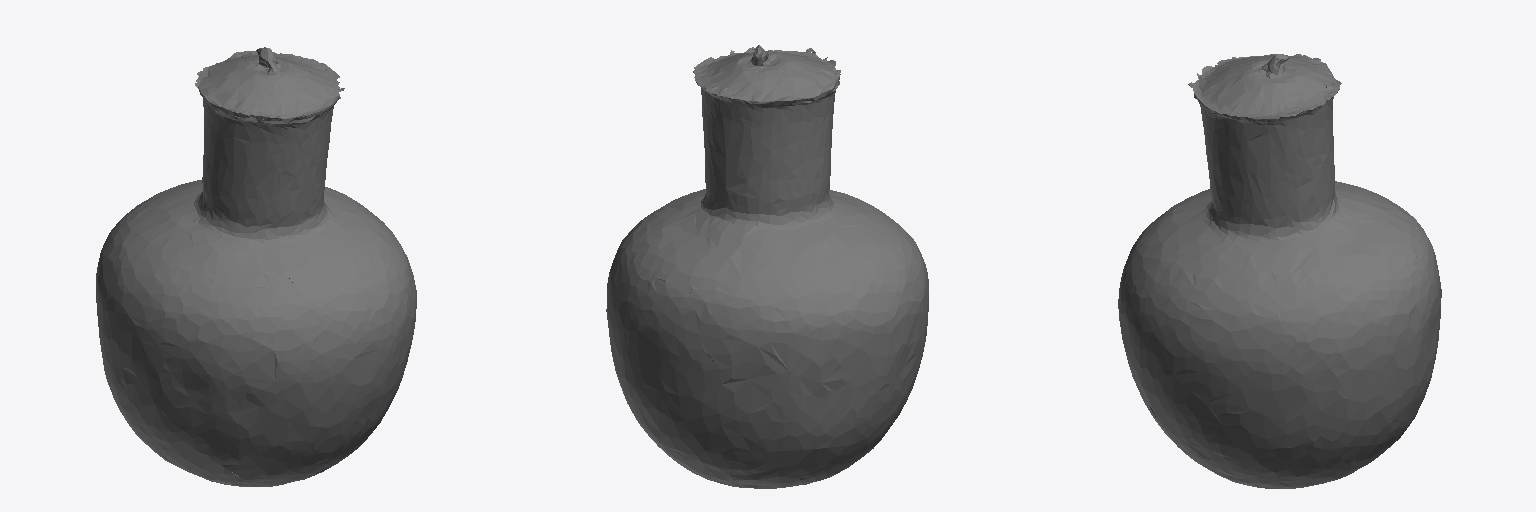
3 renders of one model, left to right at view 1: azimuth 30°, elevation 25°; view 2: azimuth 150°, elevation 25°; view 3: azimuth 270°, elevation 25°, orthographic.
Visible parts, largest first — view 1: Polygonal_Model_1 Triangles_1; view 2: Polygonal_Model_1 Triangles_1; view 3: Polygonal_Model_1 Triangles_1.
Part boxes in pixels (x1,y1,x2,y2): Polygonal_Model_1 Triangles_1: (96,47,416,486); Polygonal_Model_1 Triangles_1: (606,45,928,488); Polygonal_Model_1 Triangles_1: (1118,54,1441,488).
Size of the model in its own units: 1.74 by 2.47 by 1.75.